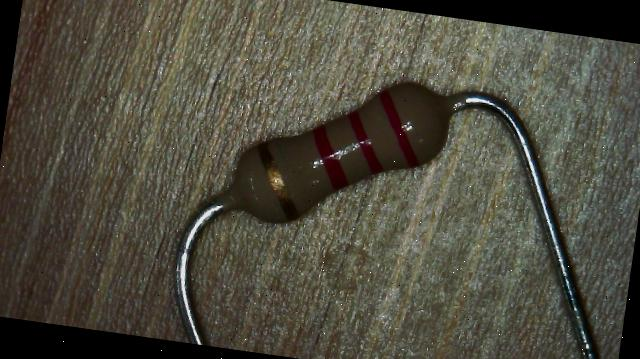gold: (252, 143, 306, 219)
red: (370, 88, 428, 166), (339, 110, 391, 174), (306, 124, 356, 190)
resistor: (197, 53, 460, 255)
